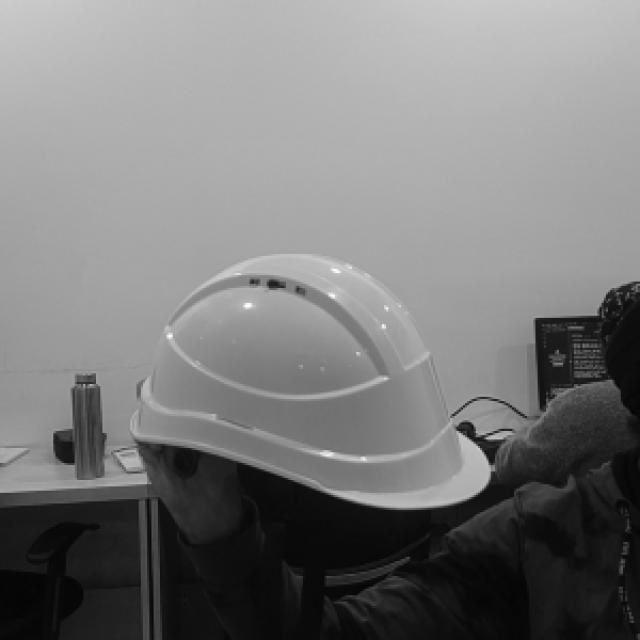safety_helmet: (132, 253, 491, 511)
